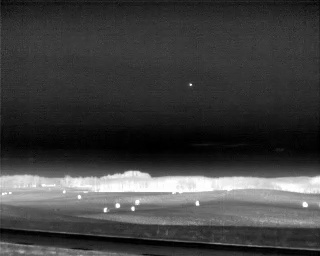BIRD: (187, 80, 194, 89)
